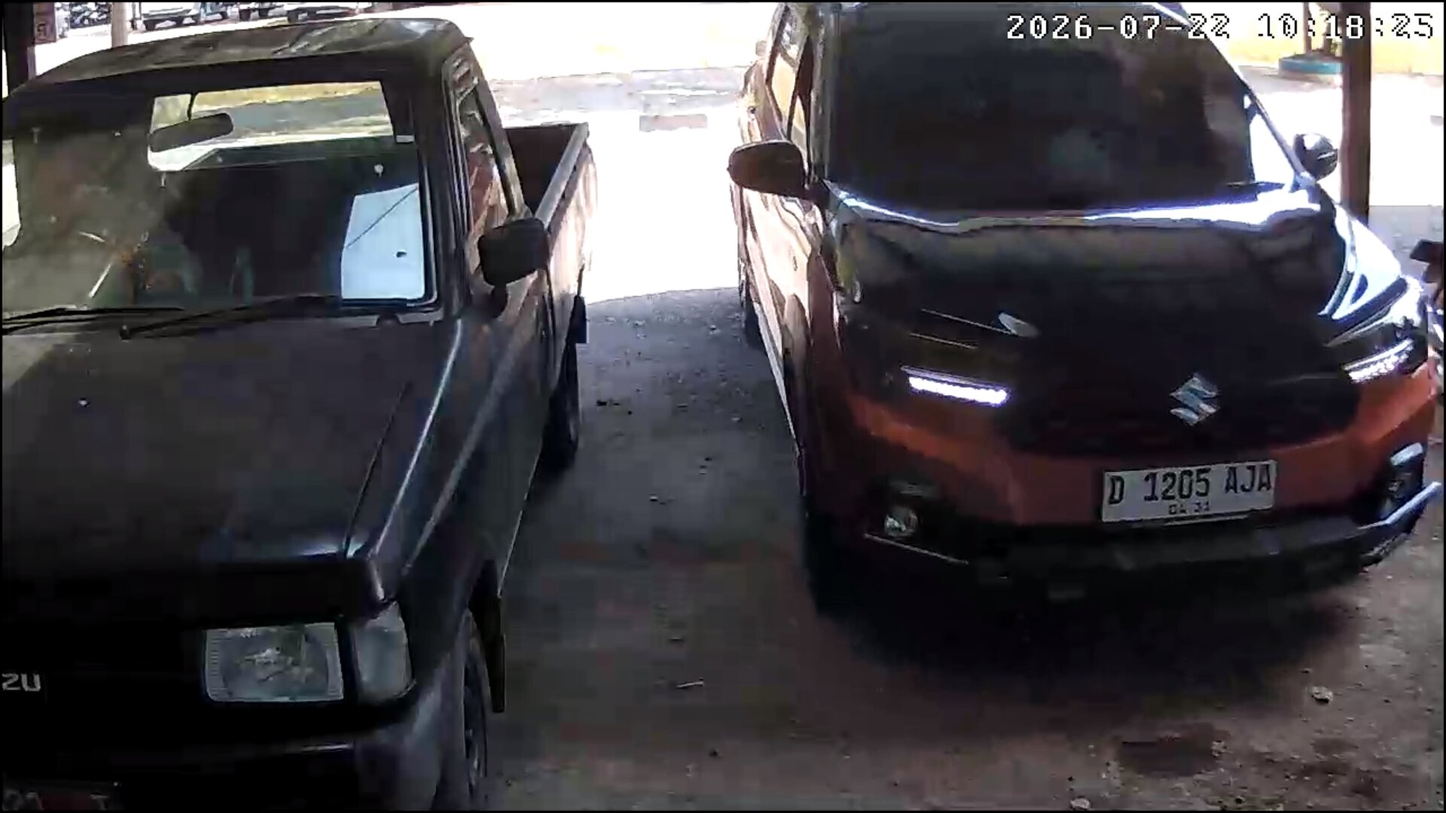plat nomor: (1102, 460, 1277, 524)
